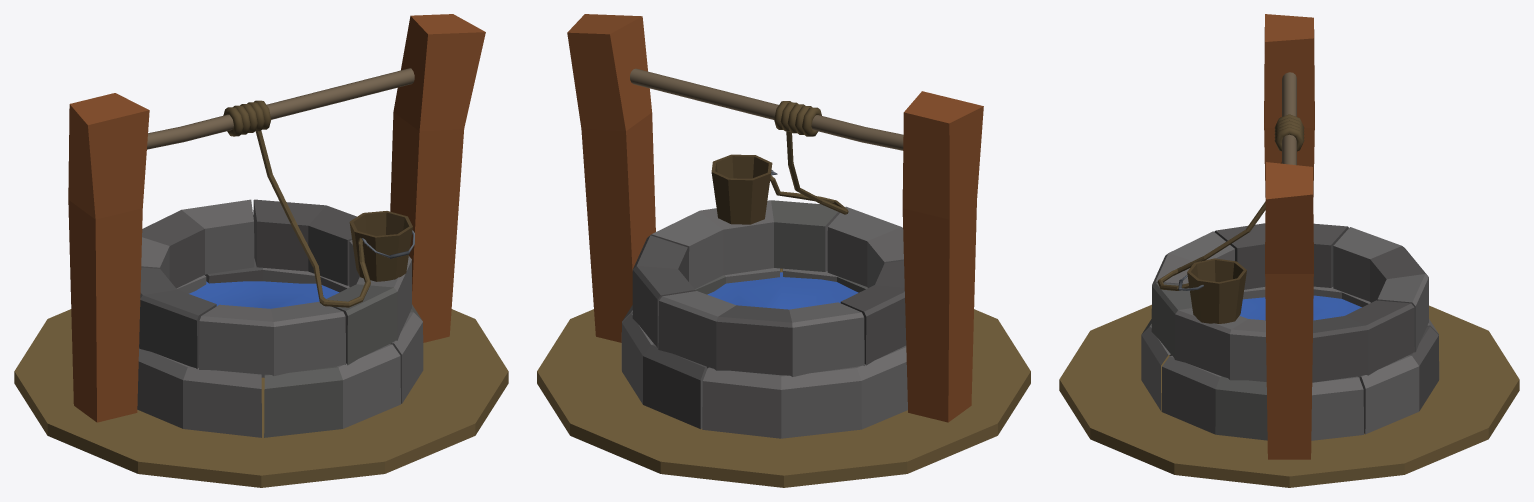
The model's file is The Well_1.fbx.
3 renders of one model, left to right at view 1: azimuth 30°, elevation 25°; view 2: azimuth 150°, elevation 25°; view 3: azimuth 270°, elevation 25°, orthographic. The views are drawn at different scales.
Parts seen in each view (by area): view 1: The Well_1; view 2: The Well_1; view 3: The Well_1.
Boxes of the visible parts, x1=… form: The Well_1: x1=14, y1=14, x2=508, y2=487; The Well_1: x1=537, y1=14, x2=1030, y2=487; The Well_1: x1=1059, y1=14, x2=1519, y2=487.
Size of the model in its own units: 312 by 224 by 312.
